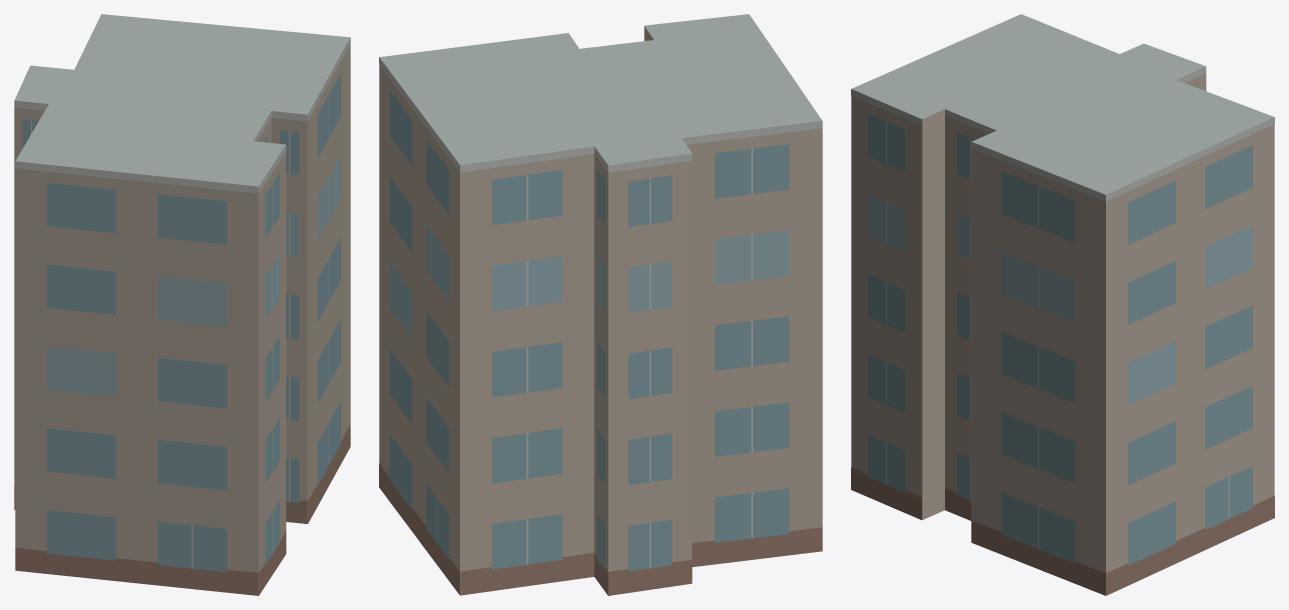
Rendered from survey-upis-32872024.glb.
3 renders of one model, left to right at view 1: azimuth 30°, elevation 25°; view 2: azimuth 150°, elevation 25°; view 3: azimuth 270°, elevation 25°, orthographic. The views are drawn at different scales.
Visible parts, largest first — view 1: survey-upis-32872024.tmp; view 2: survey-upis-32872024.tmp; view 3: survey-upis-32872024.tmp.
Boxes of the visible parts, left/top/right/bottom form: survey-upis-32872024.tmp: left=14, top=14, right=350, bottom=595; survey-upis-32872024.tmp: left=379, top=14, right=822, bottom=595; survey-upis-32872024.tmp: left=851, top=14, right=1274, bottom=595.
Bounding box in the file's own units: 13.85 × 14.3 × 13.7.
